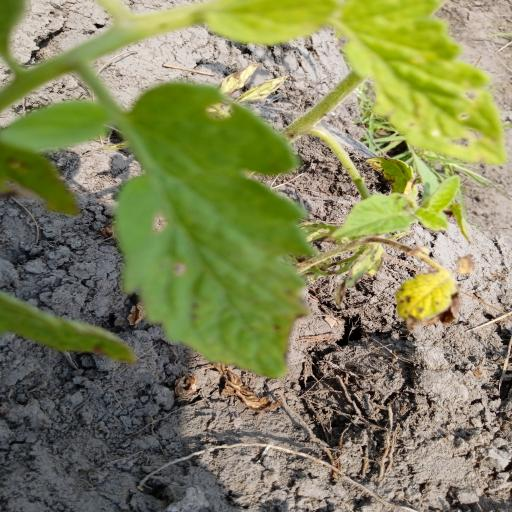Tomato_Brown_Spots: (109, 77, 328, 386)
